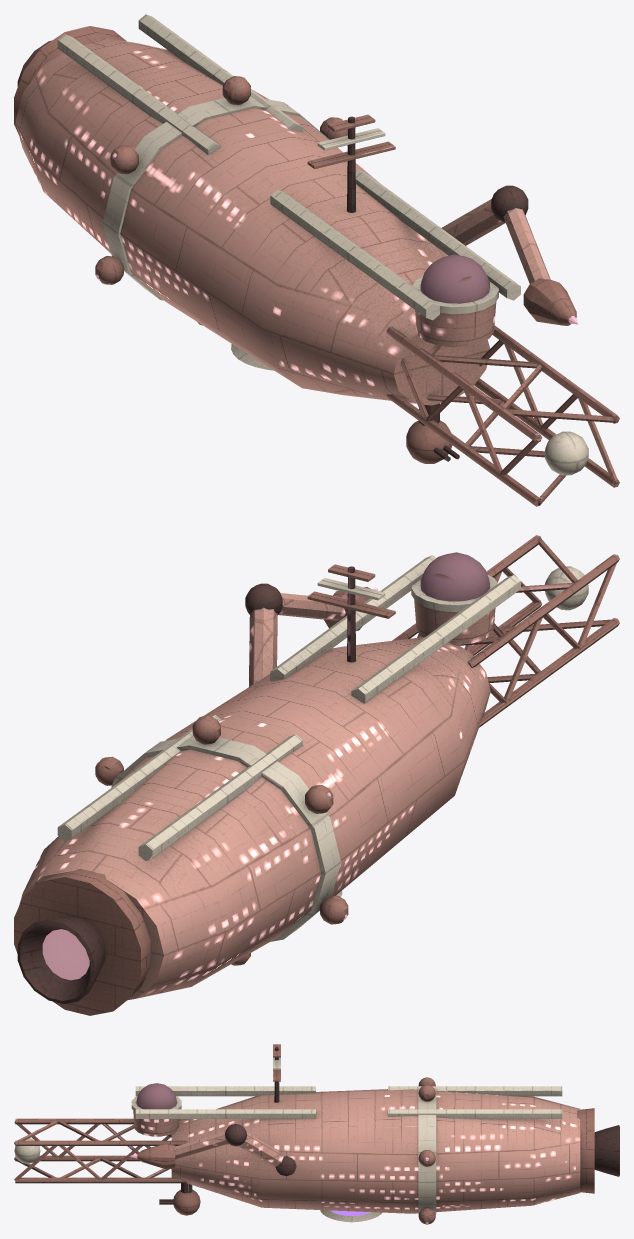
The model's file is tessari_picket.glb.
3 renders of one model, top to bottom at view 1: azimuth 30°, elevation 25°; view 2: azimuth 150°, elevation 25°; view 3: azimuth 270°, elevation 25°, orthographic. The views are drawn at different scales.
Parts seen in each view (by area): view 1: HULL, SYS_BUS_F, SYS_BRIDGE, SYS_WPN1, SYS_BUS_A, SYS_SENSORS, SYS_DRIVE, SYS_PD; view 2: HULL, SYS_DRIVE, SYS_BUS_F, SYS_BUS_A, SYS_BRIDGE, SYS_WPN1, SYS_SENSORS; view 3: HULL, SYS_BUS_F, SYS_BUS_A, SYS_WPN1, SYS_DRIVE, SYS_BRIDGE, SYS_PD, SYS_DAMP, SYS_SENSORS.
Boxes of the visible parts, x1,y1,x2,y2 form: HULL: (15,38,619,506); SYS_BUS_F: (270,170,520,320); SYS_BRIDGE: (412,254,498,347); SYS_WPN1: (441,185,578,325); SYS_BUS_A: (57,14,302,154); SYS_SENSORS: (307,114,395,212); SYS_DRIVE: (14,26,126,133); SYS_PD: (406,403,459,463); HULL: (19,535,619,1000); SYS_DRIVE: (14,869,150,1015); SYS_BUS_F: (270,555,520,703); SYS_BUS_A: (57,715,302,861); SYS_BRIDGE: (411,552,497,645); SYS_WPN1: (245,583,377,686); SYS_SENSORS: (307,564,395,662); HULL: (14,1077,580,1224); SYS_BUS_F: (135,1086,315,1118); SYS_BUS_A: (388,1086,562,1118); SYS_WPN1: (130,1124,296,1175); SYS_DRIVE: (577,1108,619,1193); SYS_BRIDGE: (131,1083,181,1136); SYS_PD: (159,1183,200,1215); SYS_DAMP: (320,1210,381,1222); SYS_SENSORS: (273,1044,280,1102).
Size of the model in its own units: 6.72 by 7.26 by 23.07.
1 material, 1 textured.
